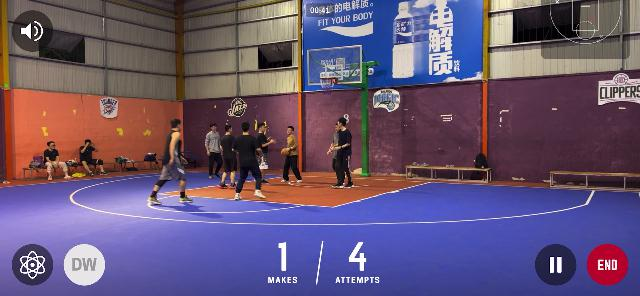ball: (280, 145, 290, 156)
basket: (320, 76, 336, 94)
